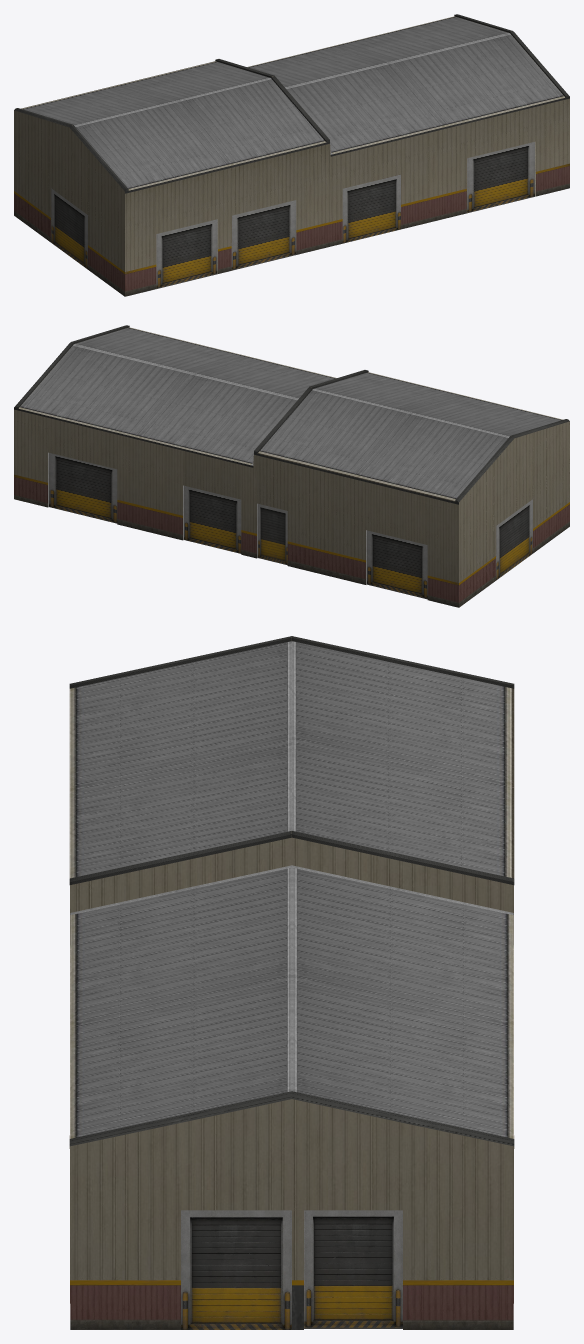
Rendered from lagerhalle.gltf.
3 renders of one model, top to bottom at view 1: azimuth 30°, elevation 25°; view 2: azimuth 150°, elevation 25°; view 3: azimuth 270°, elevation 25°, orthographic. The views are drawn at different scales.
Visible parts, largest first — view 1: Cube; view 2: Cube; view 3: Cube.
Part boxes in pixels (x1=…): Cube: x1=14, y1=14, x2=569, y2=296; Cube: x1=14, y1=325, x2=569, y2=607; Cube: x1=69, y1=636, x2=514, y2=1329.
Bounding box in the file's own units: 3.91 × 1.1 × 1.69.
Materials: 2 (2 with a texture image).
